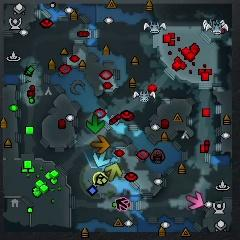Other: (93, 172, 106, 186)
x1: (186, 191, 204, 209)
x1Clone: (115, 196, 127, 210), (120, 200, 129, 211)
x2: (105, 163, 122, 181)
x3: (93, 151, 110, 167)
x4: (86, 115, 104, 133)
x5: (91, 136, 110, 153)
